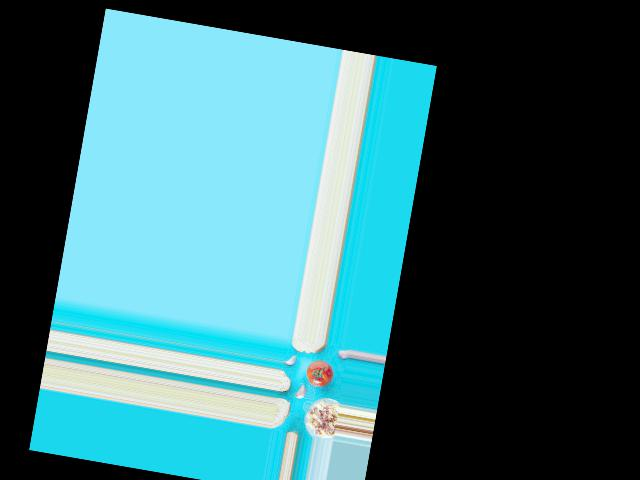tomato: (304, 358, 335, 387)
